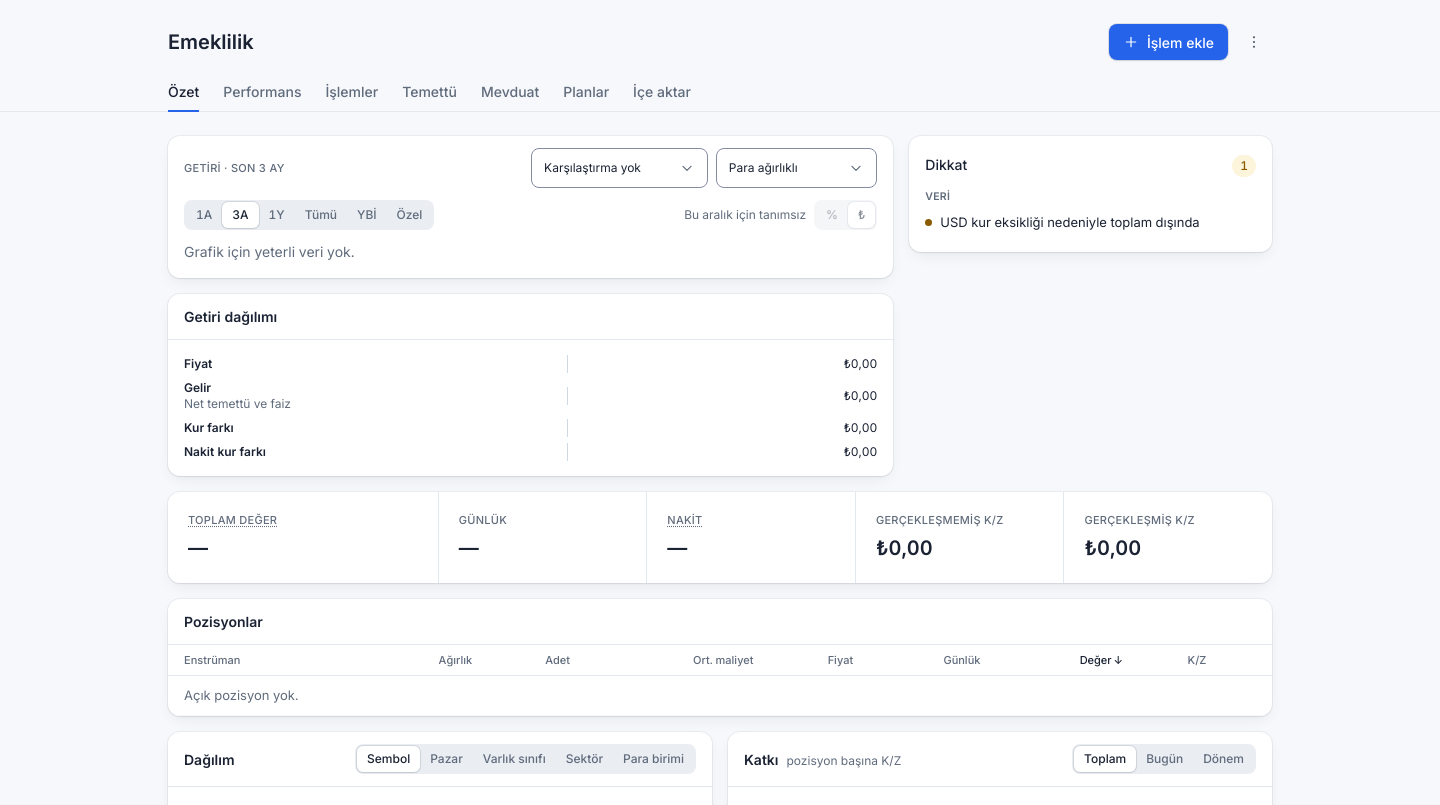
it: SummaryPage › shows the untotaled cash balance and no zero total when the only currency has no rate
The image size is (1440, 805).
Expected: the 3rd text "—" is shown, left=667, top=536, right=687, bottom=560
Click the button "Nakit" at (685, 520), box left=667, top=512, right=702, bottom=528
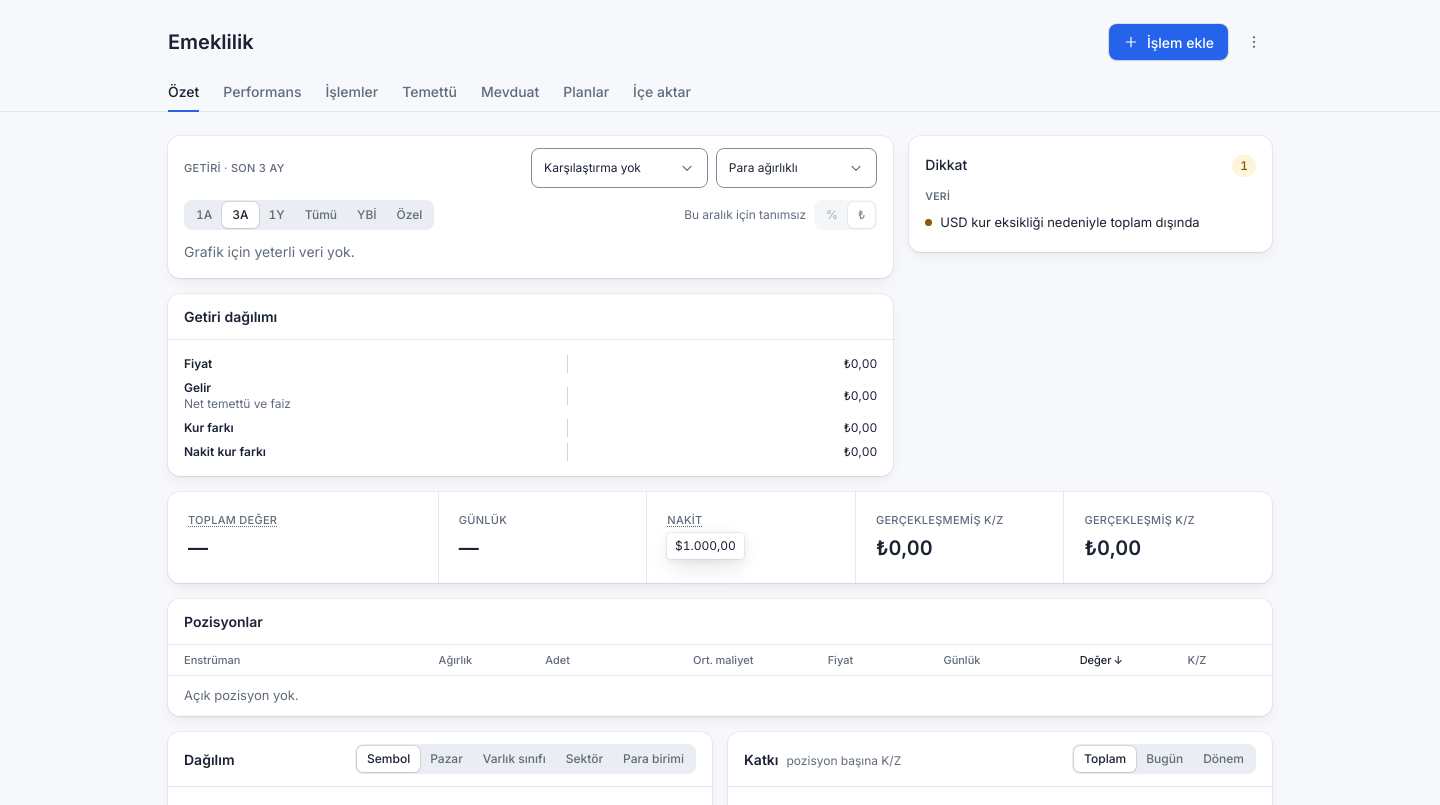
Click the button "Nakit" at (685, 520), box left=667, top=512, right=702, bottom=528
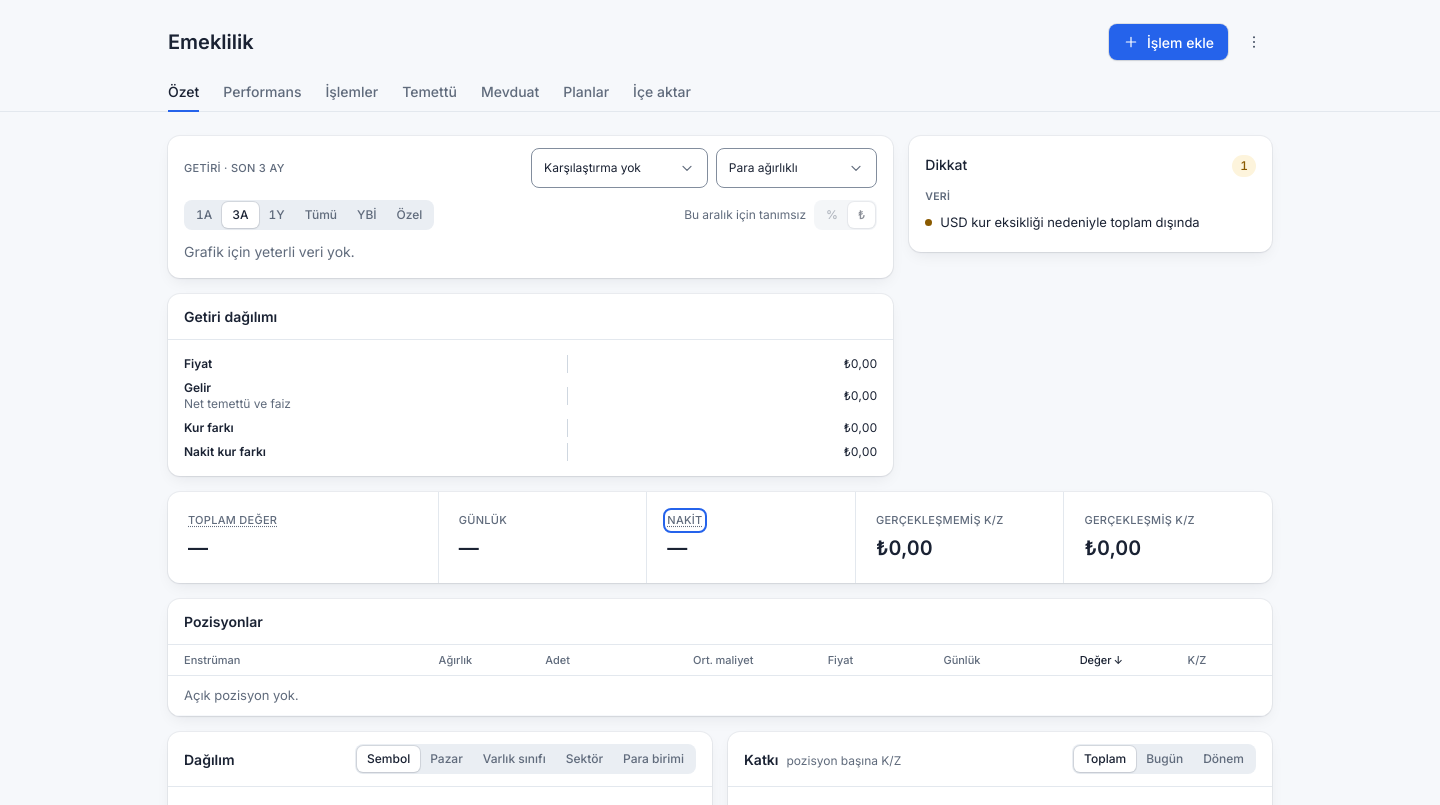
Expected: the dialog is gone
